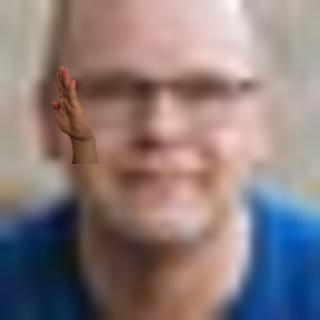RIGHT: (49, 62, 96, 145)
